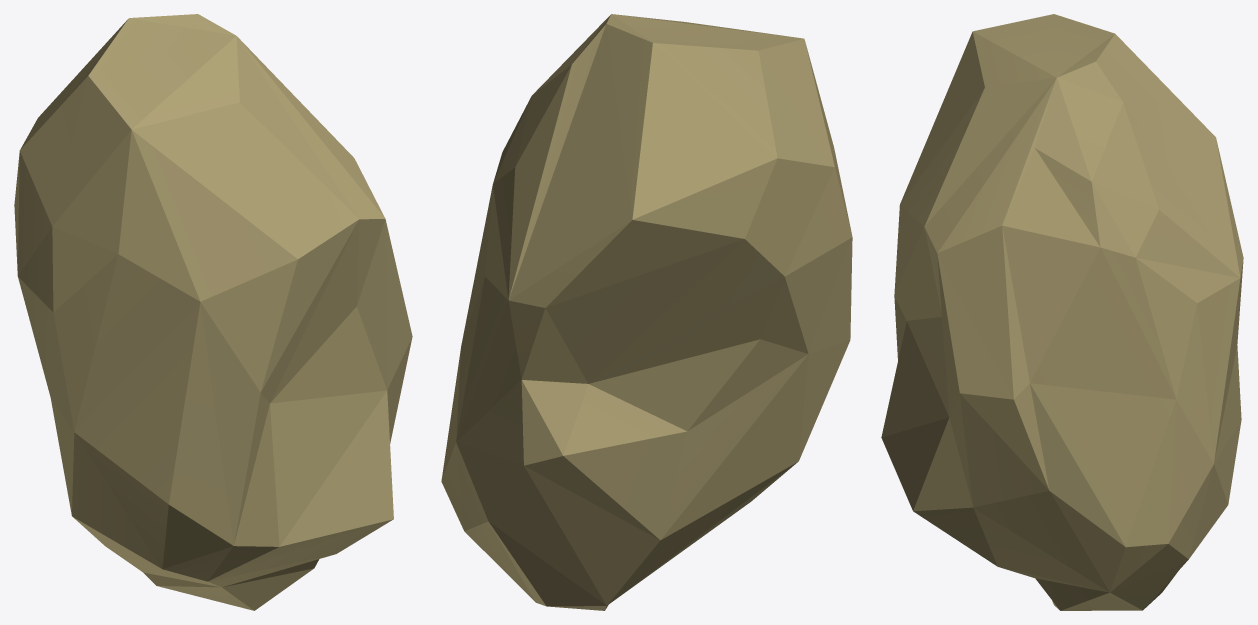
The model's file is SM_small_rock_28.fbx.
3 renders of one model, left to right at view 1: azimuth 30°, elevation 25°; view 2: azimuth 150°, elevation 25°; view 3: azimuth 270°, elevation 25°, orthographic. The views are drawn at different scales.
Parts seen in each view (by area): view 1: small_rock_28; view 2: small_rock_28; view 3: small_rock_28.
Boxes of the visible parts, x1,y1,x2,y2 form: small_rock_28: (14, 14, 412, 610); small_rock_28: (441, 14, 852, 610); small_rock_28: (881, 14, 1243, 610).
Bounding box in the file's own units: 100 × 162 × 100.
